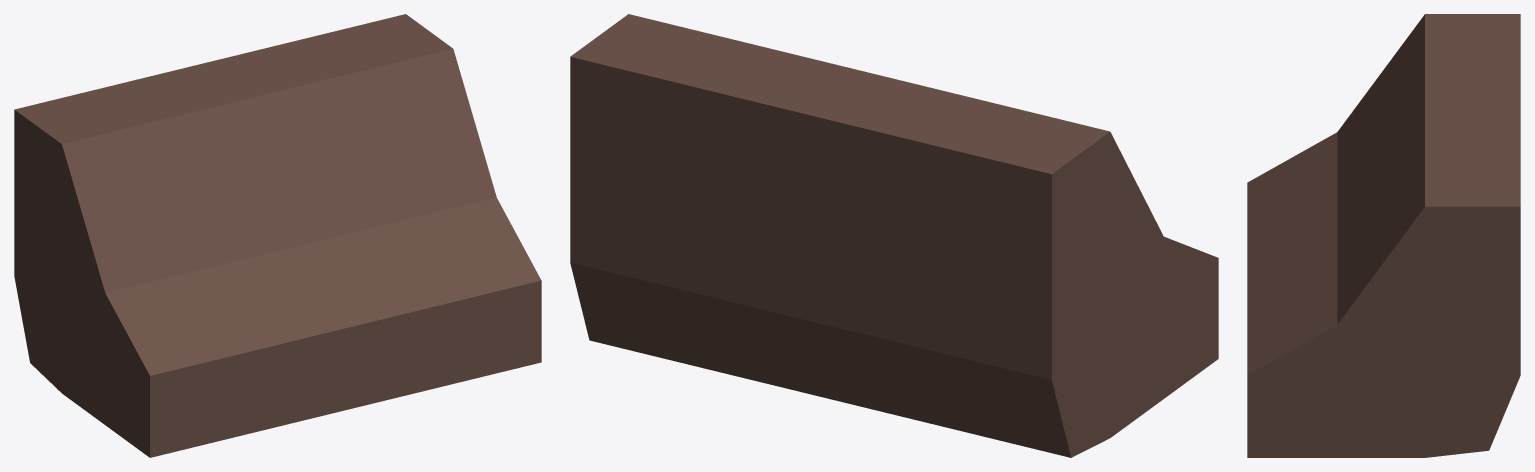
Rendered from Cave_Floor_Border_Low.fbx.
3 renders of one model, left to right at view 1: azimuth 30°, elevation 25°; view 2: azimuth 150°, elevation 25°; view 3: azimuth 270°, elevation 25°, orthographic. The views are drawn at different scales.
Parts seen in each view (by area): view 1: Cave_Floor_Border_Low; view 2: Cave_Floor_Border_Low; view 3: Cave_Floor_Border_Low.
Part boxes in pixels (x1,y1,x2,y2): Cave_Floor_Border_Low: (14, 14, 541, 457); Cave_Floor_Border_Low: (570, 14, 1218, 457); Cave_Floor_Border_Low: (1247, 14, 1520, 457).
Size of the model in its own units: 5 by 3 by 3.04.
